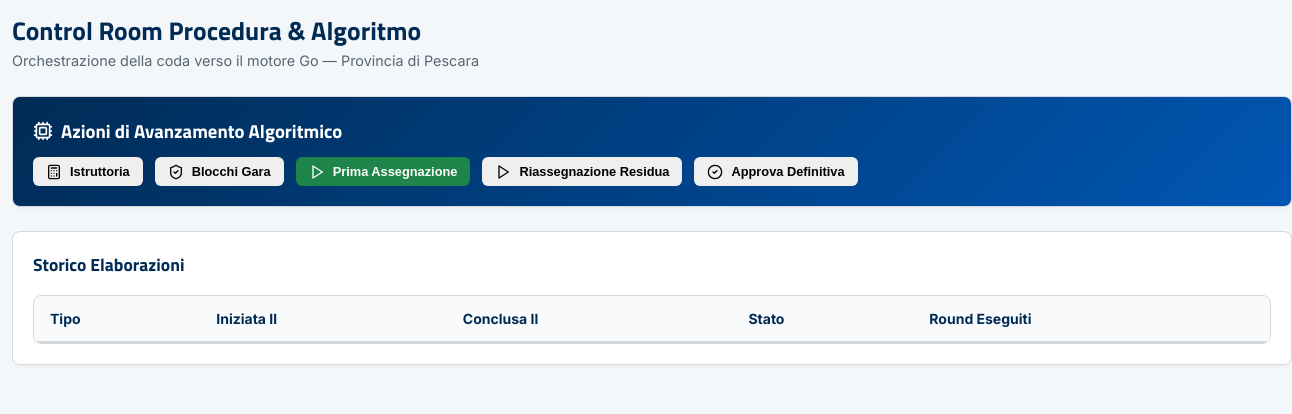
ControlRoomView › mostra l'errore reale del backend (409 elaborazione in corso)
The width and height of the screenshot is (1292, 414).
Click the button "Istruttoria".
click(88, 172)  # box [33, 157, 143, 186]
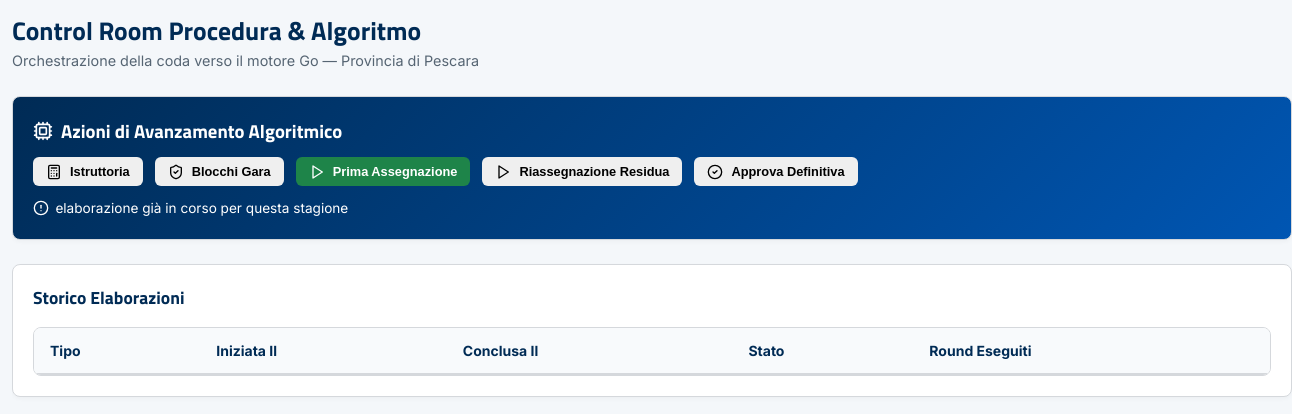
Expected: the text "elaborazione già in corso per questa stagione" is shown, [55, 198, 348, 219]
